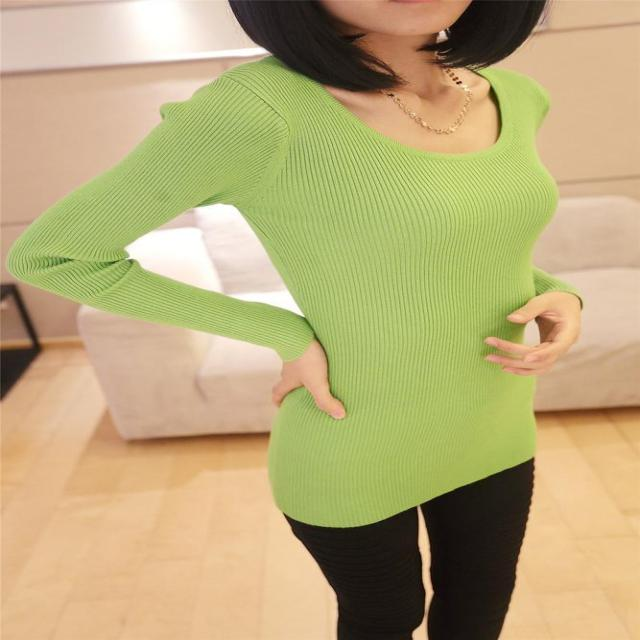long sleeve top: (12, 54, 552, 511)
trousers: (280, 384, 532, 639)
